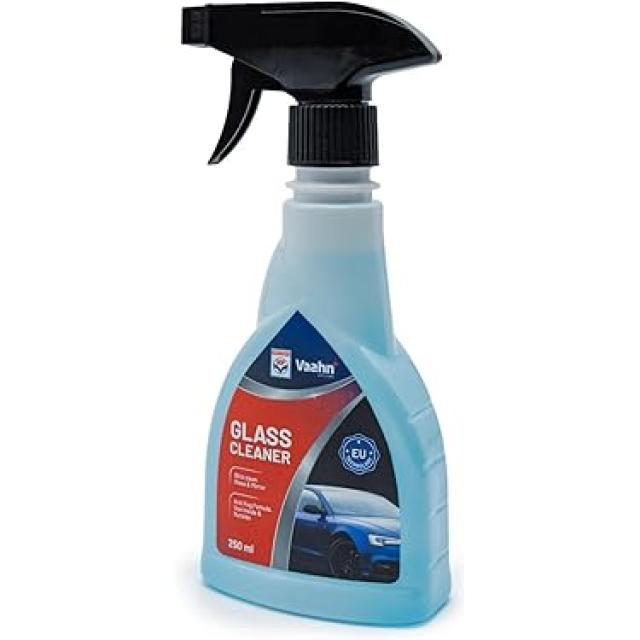winwinshield_washer: (198, 1, 451, 632)
